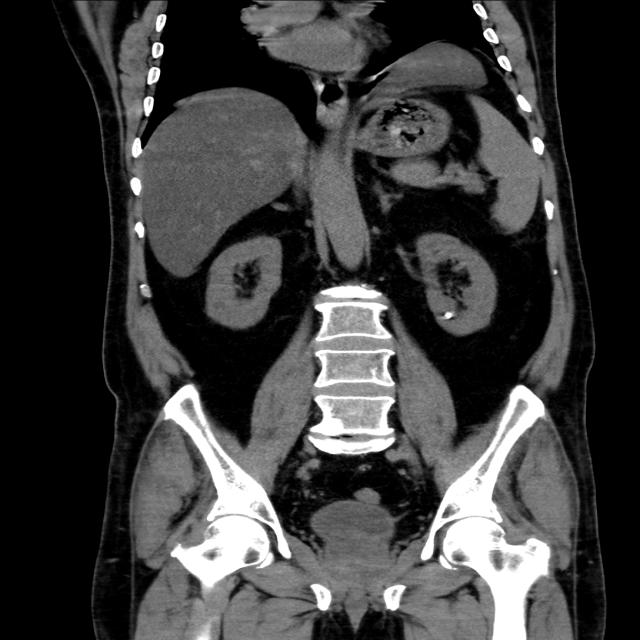kidneystone: (444, 311, 457, 320)
